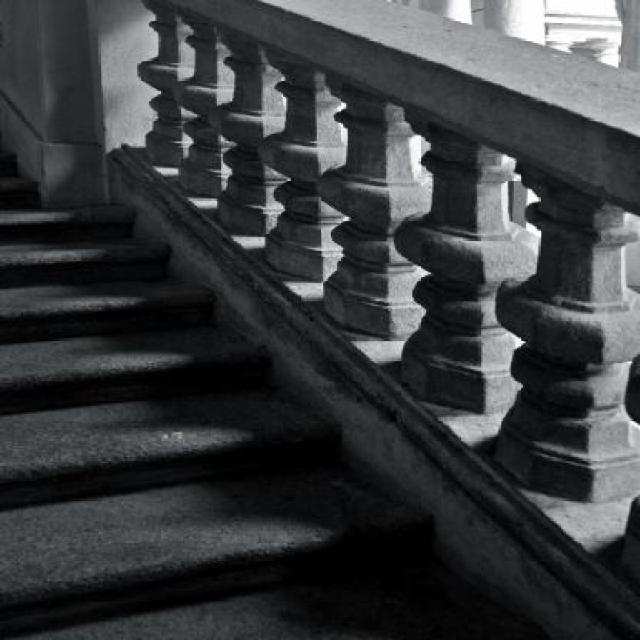stair: (0, 137, 549, 638)
